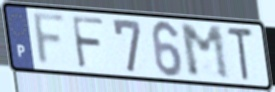6: (151, 19, 184, 79)
7: (110, 16, 143, 75)
F: (31, 11, 69, 69), (69, 14, 106, 71)
M: (178, 23, 233, 82)
T: (225, 25, 255, 83)
